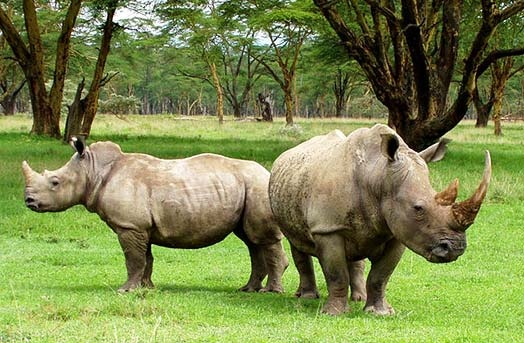rhino: (268, 123, 492, 316), (21, 135, 289, 293)
